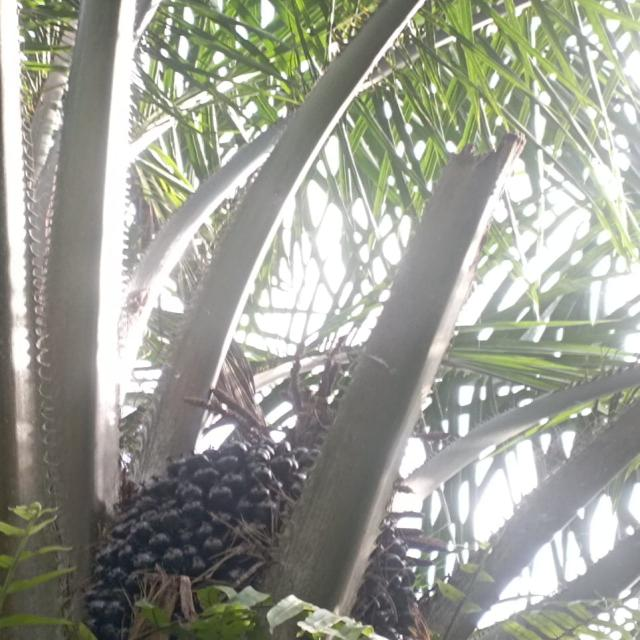fraksi 00: (74, 409, 443, 640)
